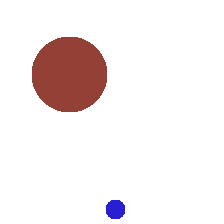circle: (32, 37, 106, 111), (106, 200, 124, 218)
